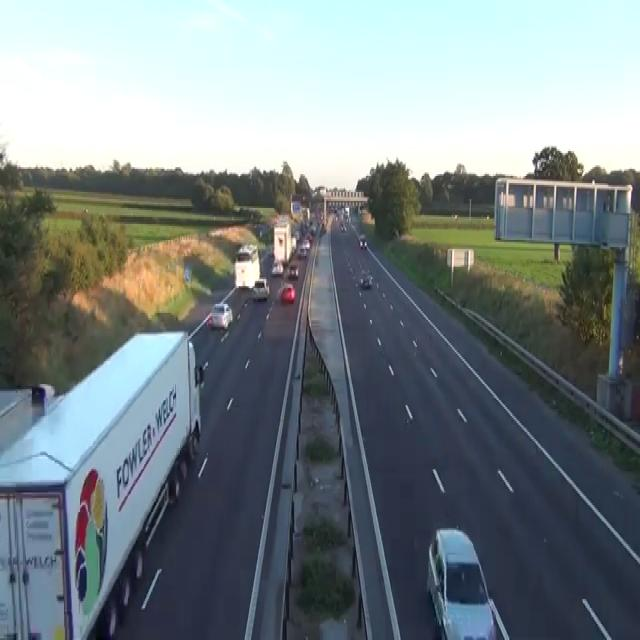Car: (426, 526, 497, 638), (209, 302, 232, 329), (236, 244, 257, 262), (252, 278, 269, 300), (277, 283, 295, 302), (254, 222, 270, 238), (271, 260, 283, 276), (359, 274, 372, 288), (288, 263, 299, 279), (358, 233, 367, 249), (297, 244, 307, 258), (220, 331, 229, 341), (328, 202, 337, 212), (302, 238, 310, 249), (206, 313, 212, 327), (267, 247, 274, 258), (320, 224, 326, 235), (310, 224, 316, 235), (294, 229, 300, 240), (291, 237, 296, 250), (360, 240, 367, 249), (242, 298, 248, 308), (392, 228, 399, 236), (340, 222, 346, 231), (334, 213, 338, 220)
Truck: (0, 329, 206, 638), (233, 242, 260, 288), (273, 221, 292, 263)
